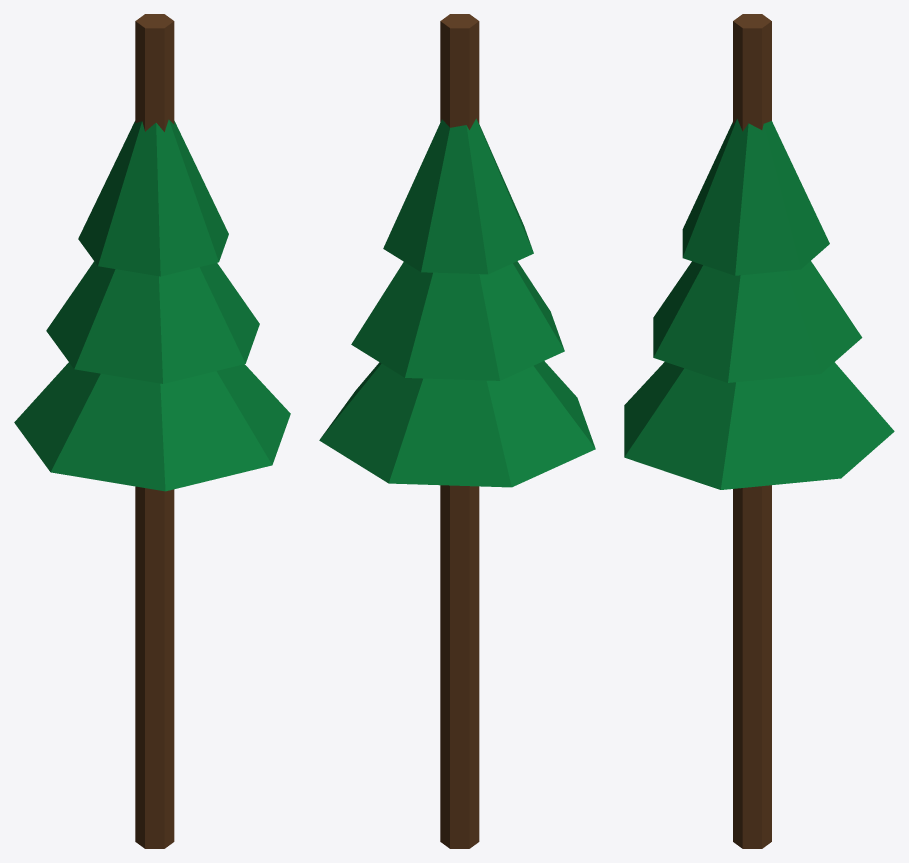
Rendered from Prop_OR_LedgerTree_05.glb.
3 renders of one model, left to right at view 1: azimuth 30°, elevation 25°; view 2: azimuth 150°, elevation 25°; view 3: azimuth 270°, elevation 25°, orthographic.
Visible parts, largest first — view 1: Prop_OR_LedgerTree_05; view 2: Prop_OR_LedgerTree_05; view 3: Prop_OR_LedgerTree_05.
Part boxes in pixels (x1=…): Prop_OR_LedgerTree_05: x1=14, y1=14, x2=290, y2=848; Prop_OR_LedgerTree_05: x1=319, y1=14, x2=595, y2=848; Prop_OR_LedgerTree_05: x1=624, y1=14, x2=894, y2=848.
Bounding box in the file's own units: 2.14 × 7 × 2.09.
